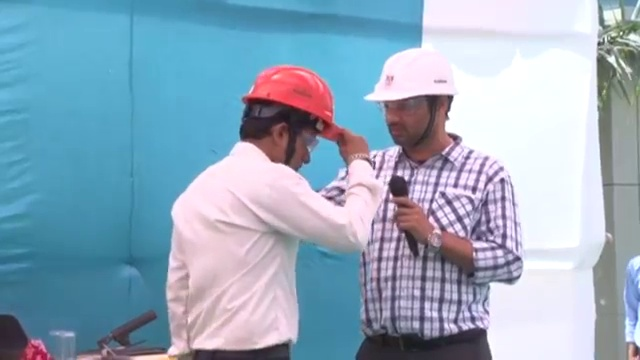helmet: (239, 58, 350, 141), (363, 46, 463, 102)
helmet_on: (237, 63, 350, 172), (361, 45, 463, 150)
person: (161, 65, 380, 360), (356, 43, 524, 360)
